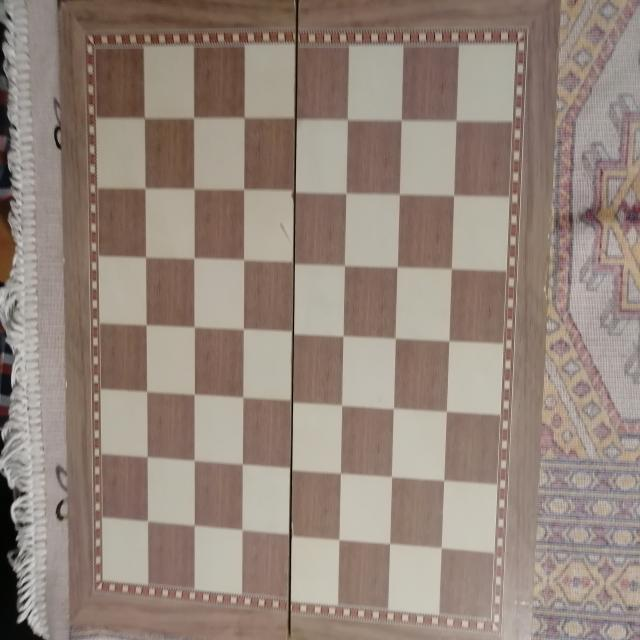corners: (62, 625, 79, 640), (552, 3, 564, 17), (56, 0, 66, 9)
